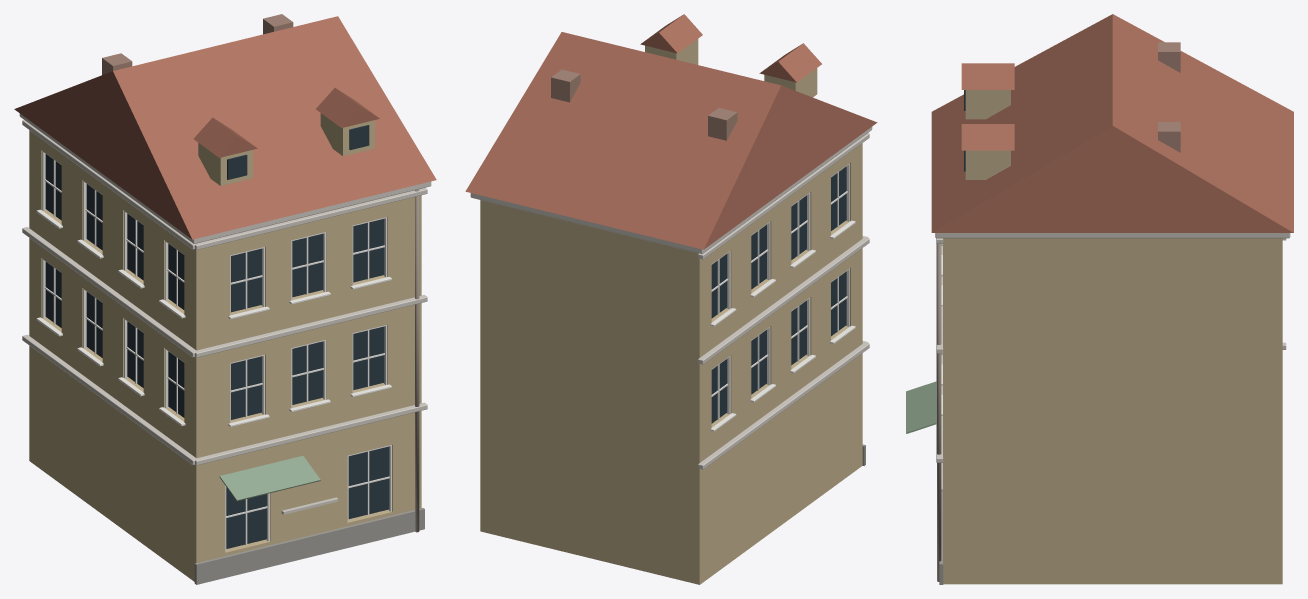
File: bld_krakow.glb
The picture shows the model from 3 angles, left to right: view 1: azimuth 30°, elevation 25°; view 2: azimuth 150°, elevation 25°; view 3: azimuth 270°, elevation 25°; orthographic projection. The views are drawn at different scales.
Parts seen in each view (by area): view 1: wall, roof, plinth, awning, glass.015, top_cornice, glass.014, cornice, cornice.001, cornice_s.001, cornice_s, glass.004 (+20 smaller); view 2: wall, roof, top_cornice, cornice_s, cornice_s.001, dormer_roof, dormer_roof.001, cornice_s.002, glass.012, glass.013, glass.006, glass.007 (+8 smaller); view 3: wall, roof, top_cornice, drainpipe, dormer_roof, dormer_roof.001, awning, dormer.003, dormer.001, chimney, chimney.001.
Boxes of the visible parts, box(x1,y1,x2,y2) form: wall: box(29, 130, 421, 581); roof: box(14, 16, 436, 239); plinth: box(194, 508, 424, 584); awning: box(219, 456, 320, 501); glass.015: box(348, 446, 389, 518); top_cornice: box(19, 113, 431, 243); glass.014: box(226, 487, 266, 548); cornice: box(194, 402, 427, 465); cornice.001: box(194, 295, 427, 357); cornice_s.001: box(22, 227, 197, 357); cornice_s: box(22, 334, 195, 464); glass.004: box(353, 326, 384, 389); wall: box(480, 143, 862, 584); roof: box(465, 32, 877, 249); top_cornice: box(470, 127, 872, 253); cornice_s: box(698, 343, 869, 469); cornice_s.001: box(698, 238, 869, 364); dormer_roof: box(759, 43, 821, 82); dormer_roof.001: box(640, 14, 702, 53); cornice_s.002: box(698, 133, 869, 259); glass.012: box(711, 359, 727, 423); glass.013: box(711, 254, 727, 318); glass.006: box(831, 271, 846, 336); glass.007: box(831, 166, 846, 230); wall: box(943, 238, 1282, 584); roof: box(931, 14, 1293, 232); top_cornice: box(935, 233, 1290, 238); drainpipe: box(937, 244, 941, 581); dormer_roof: box(961, 63, 1014, 89); dormer_roof.001: box(961, 124, 1014, 150); awning: box(906, 381, 936, 433); dormer.003: box(965, 150, 1010, 179); dormer.001: box(965, 90, 1010, 119); chimney: box(1158, 42, 1180, 72); chimney.001: box(1158, 122, 1180, 152).
Size of the model in its own units: 7.6 by 13.4 by 10.28.
